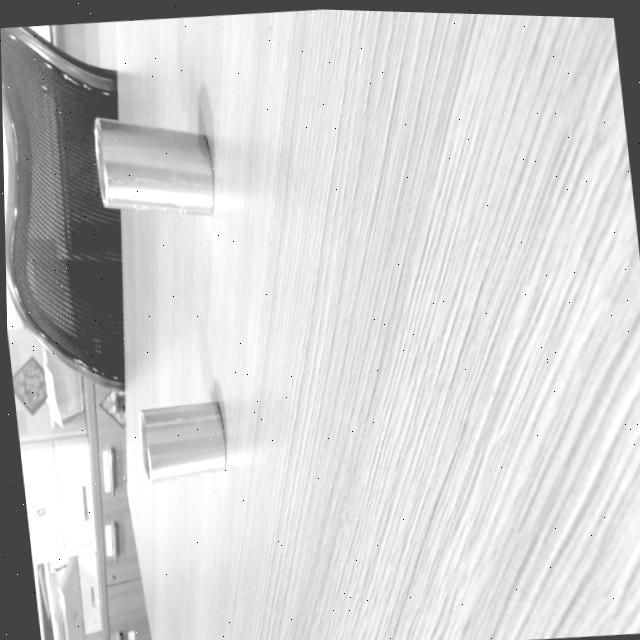Co_Lon: (87, 116, 221, 217)
Co_Nho: (137, 399, 229, 483)
